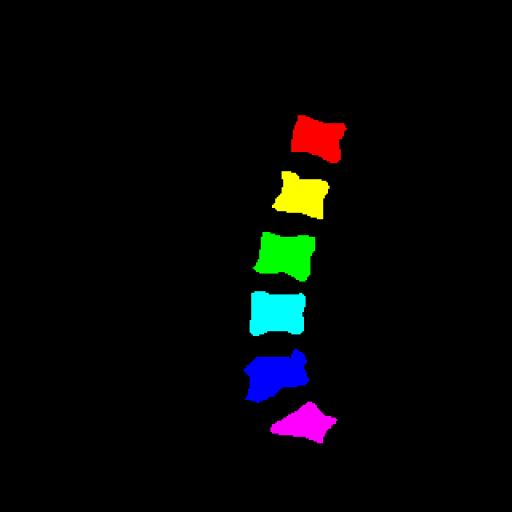L1: (291, 115, 347, 163)
L2: (272, 171, 329, 218)
L3: (253, 232, 315, 282)
L4: (250, 291, 306, 336)
L5: (244, 349, 309, 402)
S1: (270, 402, 337, 443)
